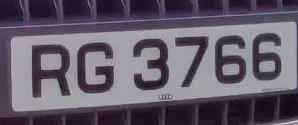3: (127, 33, 176, 96)
6: (208, 26, 252, 93), (247, 26, 288, 86)
7: (169, 29, 217, 97)
G: (75, 35, 119, 102)
R: (26, 37, 79, 105)
